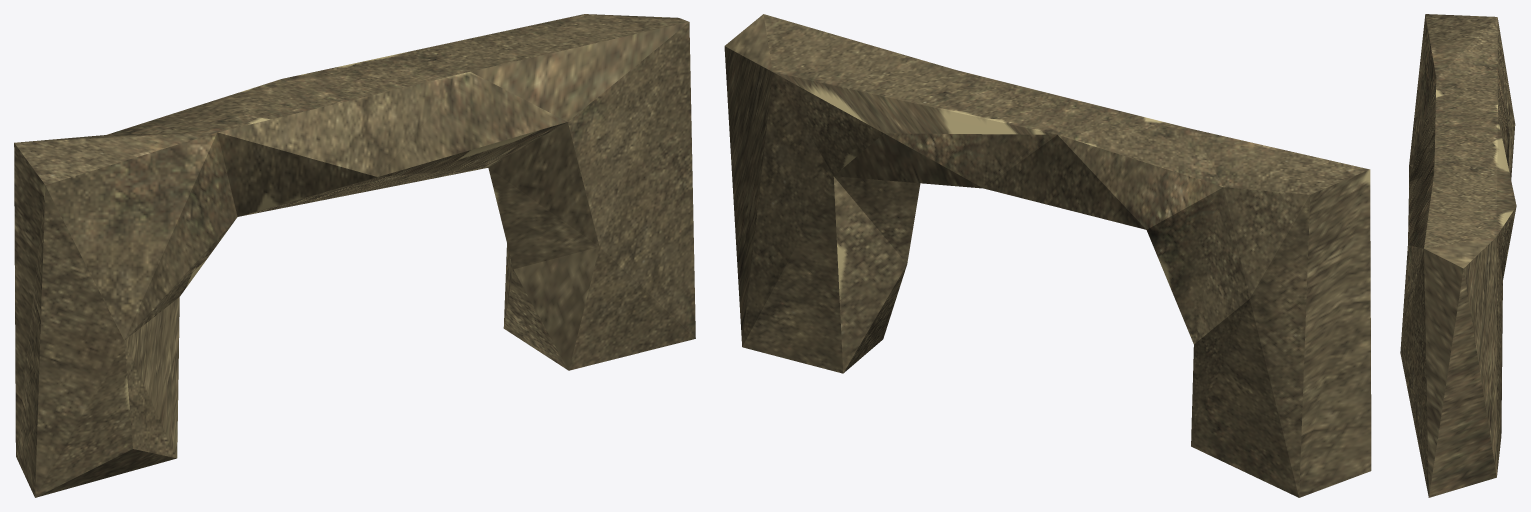
File: CaveWalls2_A_COL.obj
The picture shows the model from 3 angles, left to right: view 1: azimuth 30°, elevation 25°; view 2: azimuth 150°, elevation 25°; view 3: azimuth 270°, elevation 25°; orthographic projection. The views are drawn at different scales.
Visible parts, largest first — view 1: CaveWalls2_A.006; view 2: CaveWalls2_A.006; view 3: CaveWalls2_A.006.
Boxes of the visible parts, <box> form: CaveWalls2_A.006: <box>14,14,695,497</box>; CaveWalls2_A.006: <box>724,14,1371,497</box>; CaveWalls2_A.006: <box>1400,14,1516,497</box>.
Bounding box in the file's own units: 70.49 × 32.66 × 13.97.
1 material, 1 textured.
